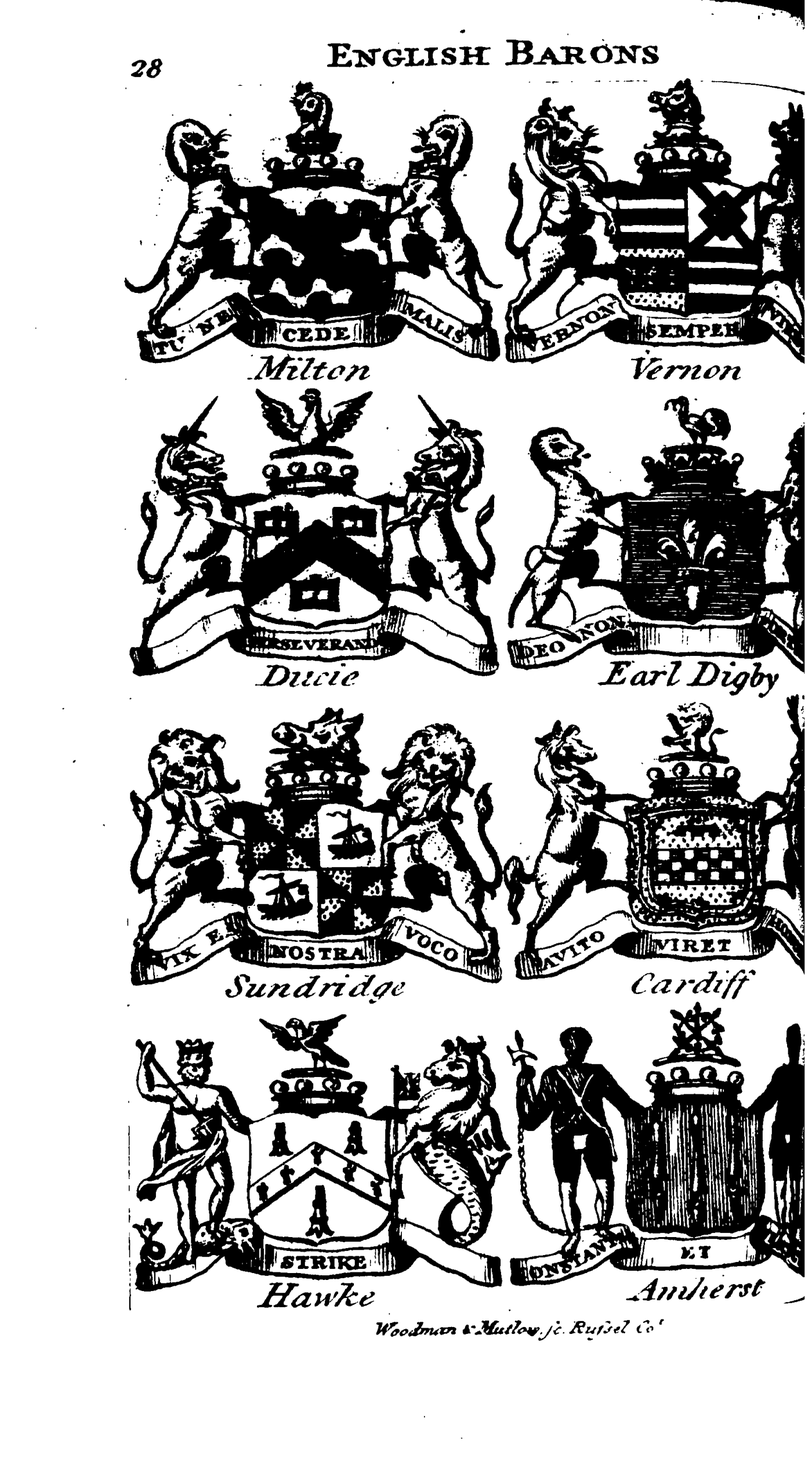coat_of_arms: (154, 379, 507, 724), (132, 1004, 507, 1301), (145, 701, 501, 1011), (153, 93, 514, 391), (518, 385, 812, 708), (496, 85, 812, 383), (506, 1006, 812, 1311), (506, 707, 812, 1000)
